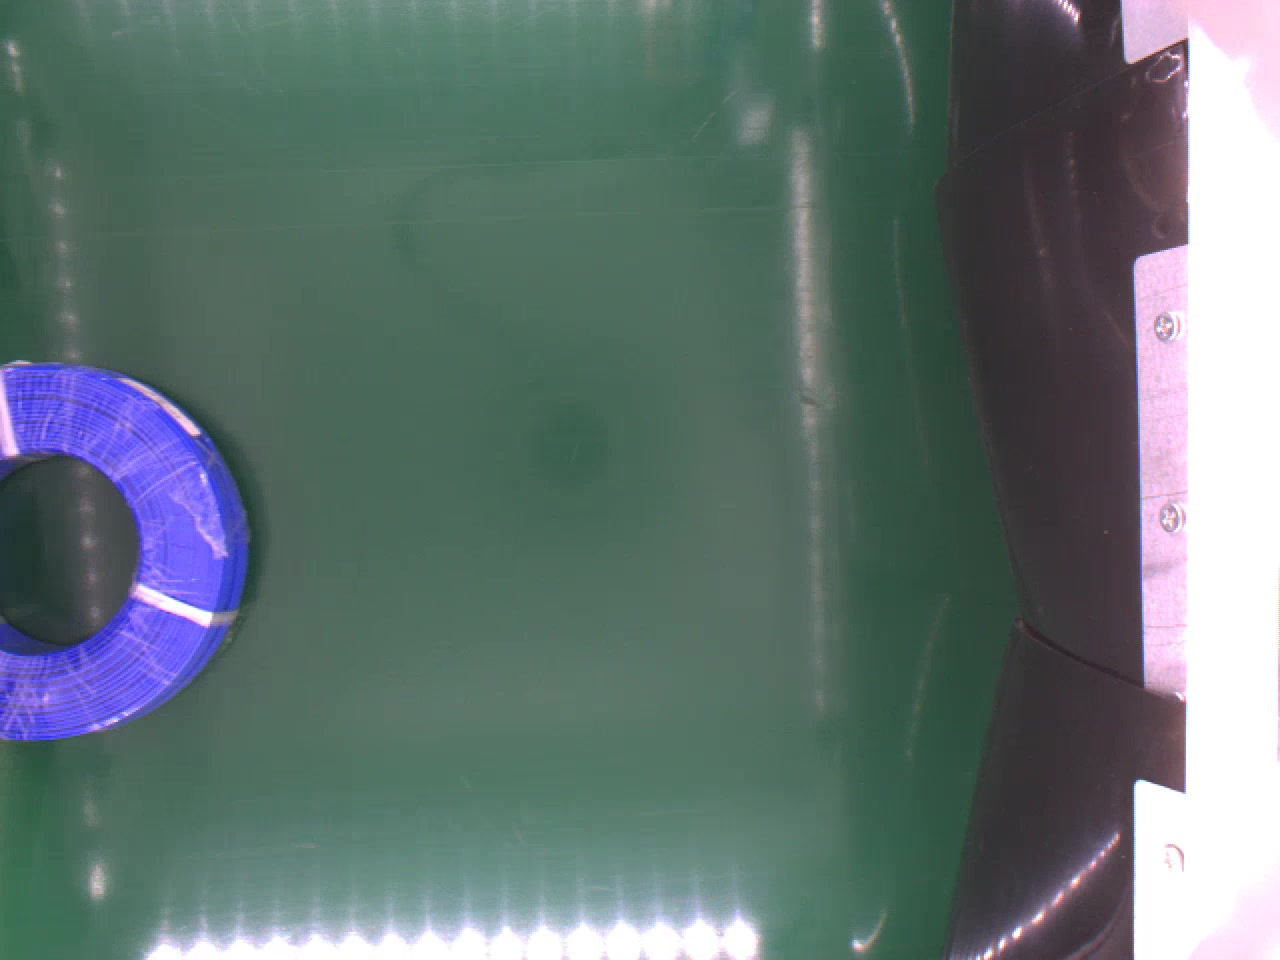blue: (0, 361, 254, 740)
